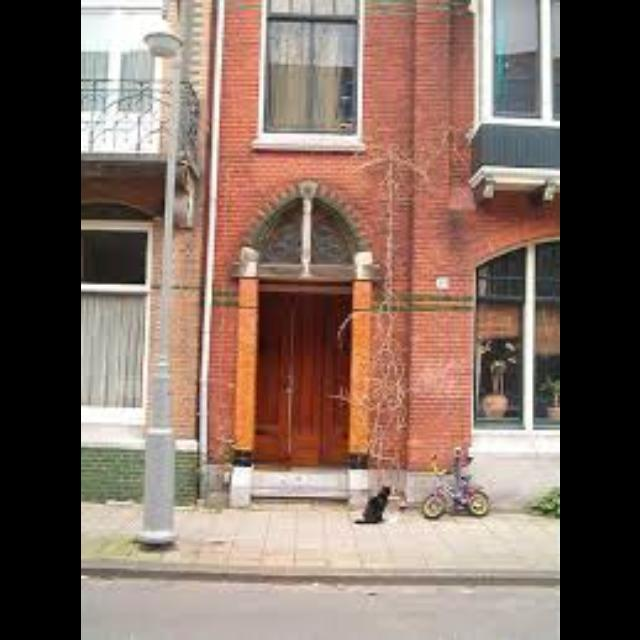Street-Lamp: (132, 22, 186, 554)
